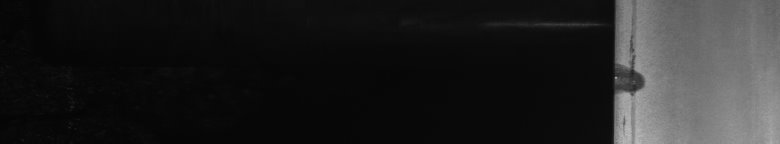hb: (624, 34, 651, 125)
